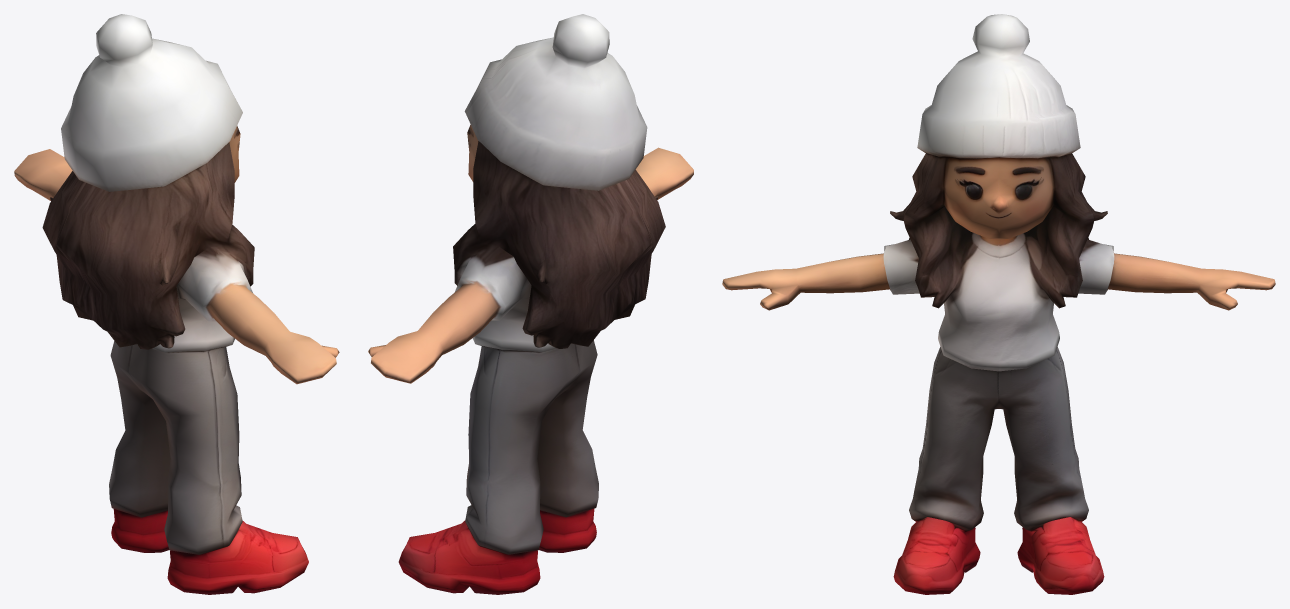
3 views of the same model, side by side, from view 1: azimuth 30°, elevation 25°; view 2: azimuth 150°, elevation 25°; view 3: azimuth 270°, elevation 25° (orthographic). The views are drawn at different scales.
Parts seen in each view (by area): view 1: tripo_node_1ea0d933-f967-45e2-ba0b-cecf34c9803e; view 2: tripo_node_1ea0d933-f967-45e2-ba0b-cecf34c9803e; view 3: tripo_node_1ea0d933-f967-45e2-ba0b-cecf34c9803e.
Boxes of the visible parts, bbox=[...] form: tripo_node_1ea0d933-f967-45e2-ba0b-cecf34c9803e: bbox=[14, 14, 339, 594]; tripo_node_1ea0d933-f967-45e2-ba0b-cecf34c9803e: bbox=[368, 14, 693, 594]; tripo_node_1ea0d933-f967-45e2-ba0b-cecf34c9803e: bbox=[722, 14, 1275, 594].
Bounding box in the file's own units: 0.394 × 0.9995 × 0.9614.
1 material, 1 textured.
